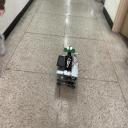cart: (56, 56, 78, 90)
